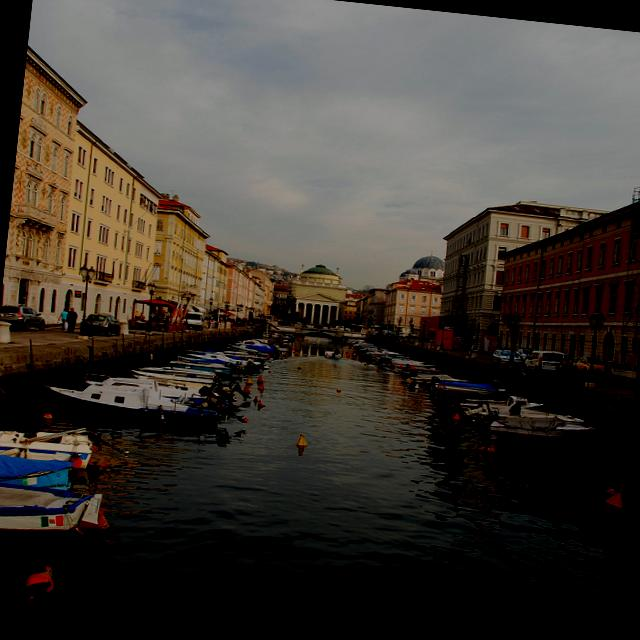Vehicle: (519, 347, 570, 378), (0, 302, 46, 333), (84, 312, 122, 338), (574, 355, 612, 375), (490, 348, 524, 368), (180, 310, 207, 330), (552, 361, 576, 382)
